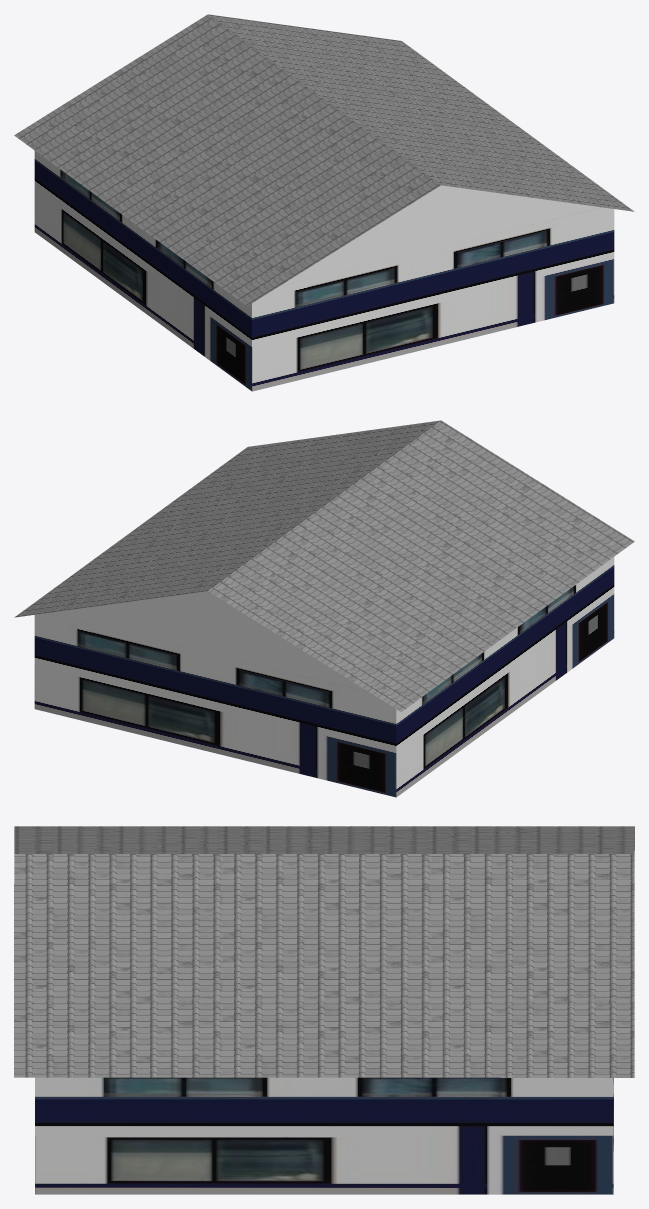
3 renders of one model, top to bottom at view 1: azimuth 30°, elevation 25°; view 2: azimuth 150°, elevation 25°; view 3: azimuth 270°, elevation 25°, orthographic. The views are drawn at different scales.
Visible parts, largest first — view 1: CityEngineMaterial_4_m, CityEngineMaterial_2_m, CityEngineMaterial_3_m; view 2: CityEngineMaterial_4_m, CityEngineMaterial_2_m, CityEngineMaterial_3_m; view 3: CityEngineMaterial_4_m, CityEngineMaterial_2_m.
Boxes of the visible parts, left/top/right/bottom form: CityEngineMaterial_4_m: left=14, top=14, right=634, bottom=306; CityEngineMaterial_2_m: left=34, top=151, right=614, bottom=391; CityEngineMaterial_3_m: left=281, top=185, right=601, bottom=285; CityEngineMaterial_4_m: left=14, top=420, right=634, bottom=712; CityEngineMaterial_2_m: left=34, top=557, right=614, bottom=797; CityEngineMaterial_3_m: left=47, top=591, right=367, bottom=691; CityEngineMaterial_4_m: left=14, top=826, right=634, bottom=1077; CityEngineMaterial_2_m: left=35, top=1077, right=613, bottom=1194.
Size of the model in its own units: 28.54 by 11.81 by 29.77.
